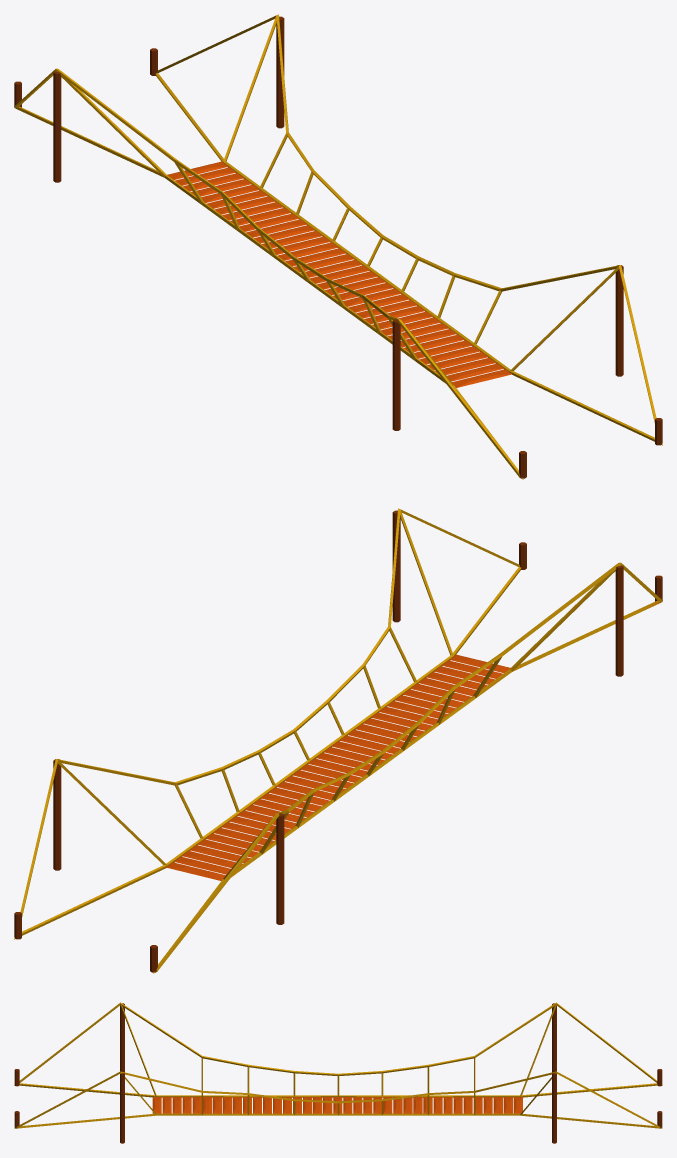
Rendered from bridge2.obj.
3 renders of one model, top to bottom at view 1: azimuth 30°, elevation 25°; view 2: azimuth 150°, elevation 25°; view 3: azimuth 270°, elevation 25°, orthographic. The views are drawn at different scales.
Visible parts, largest first — view 1: Plane_Plane_Material.001, Plane_Plane_Material.002; view 2: Plane_Plane_Material.001, Plane_Plane_Material.002; view 3: Plane_Plane_Material.002, Plane_Plane_Material.001.
Part boxes in pixels (x1,y1,x2,y2): Plane_Plane_Material.001: (14,16,662,478); Plane_Plane_Material.002: (14,14,662,479); Plane_Plane_Material.001: (14,510,662,972); Plane_Plane_Material.002: (14,508,662,973); Plane_Plane_Material.002: (14,1002,662,1128); Plane_Plane_Material.001: (14,1003,662,1143).
Bounding box in the file's own units: 67.24 × 31.27 × 259.
Materials: 2 (2 with a texture image).
